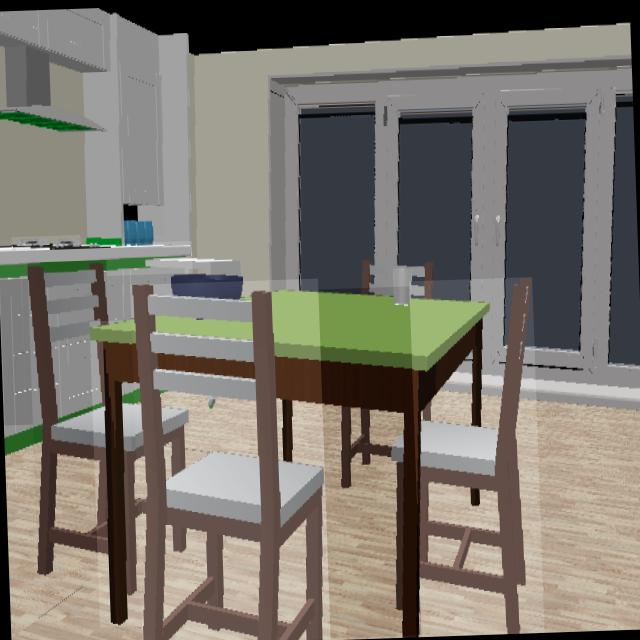cabinet: (0, 8, 158, 236), (0, 278, 39, 424)
chair: (132, 285, 324, 640), (419, 277, 532, 634), (27, 262, 108, 575)
countertop: (0, 245, 192, 279)
stove: (11, 237, 80, 249)
table: (271, 291, 492, 636), (89, 320, 140, 626)
